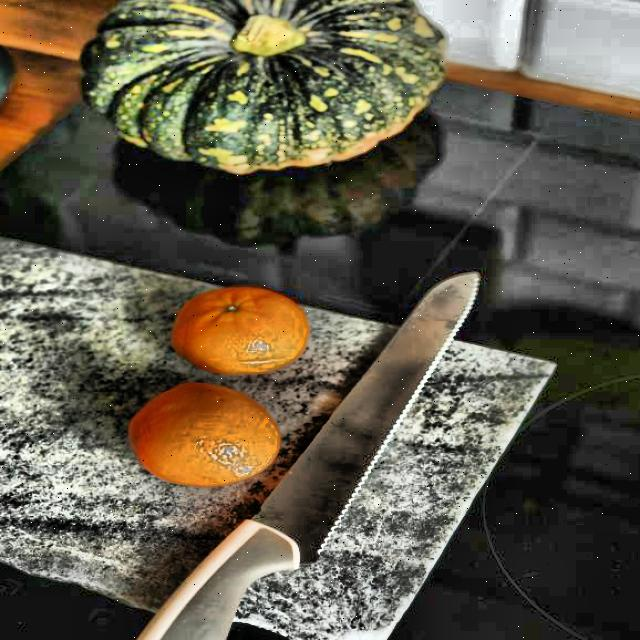knife: (80, 268, 489, 640)
